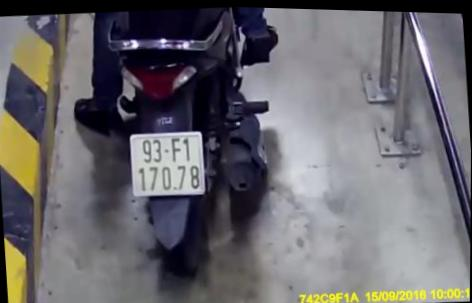LP: (127, 125, 207, 199)
